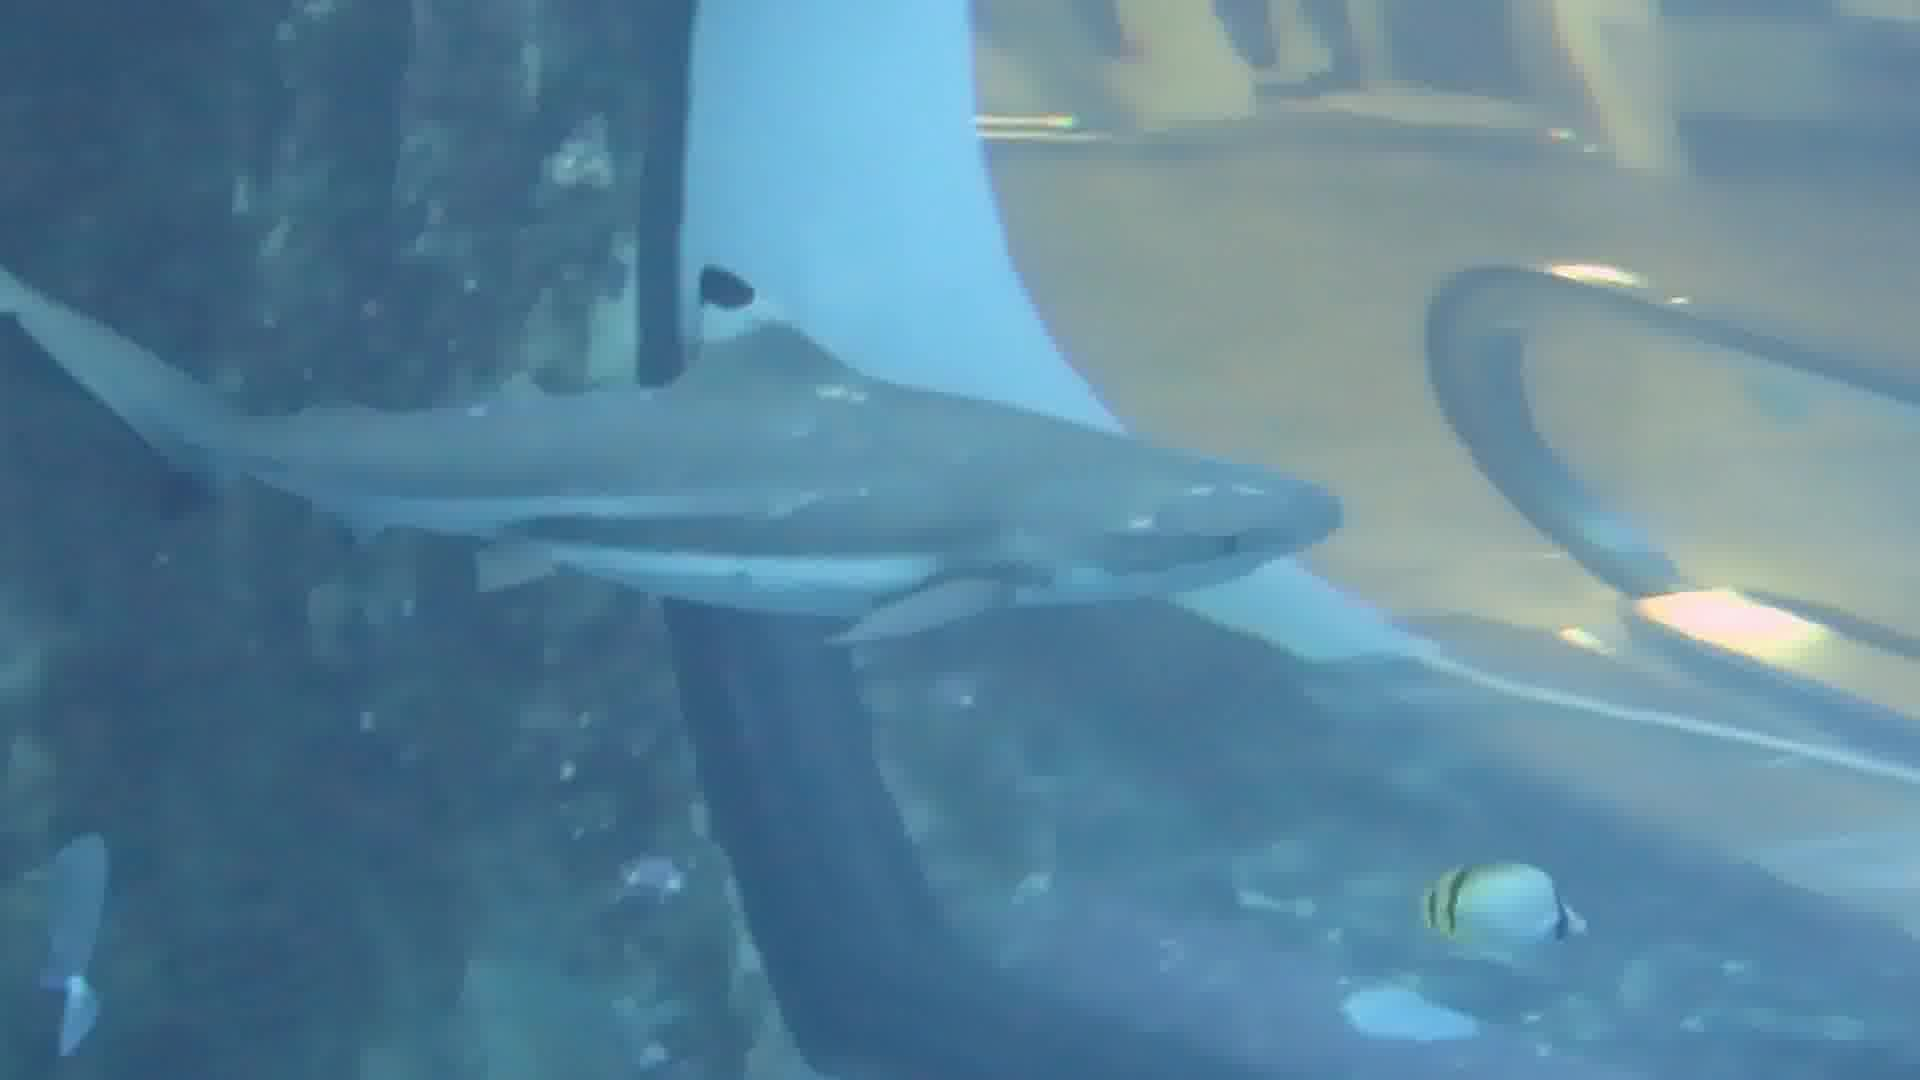Carcharhinus melanopterus: (15, 210, 1370, 665)
